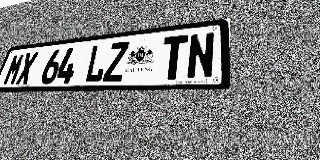4: (55, 47, 80, 84)
6: (39, 49, 64, 84)
L: (83, 44, 110, 83)
M: (2, 53, 26, 85)
N: (186, 32, 215, 79)
T: (159, 35, 188, 80)
X: (15, 52, 39, 85)
Z: (102, 41, 130, 82)
